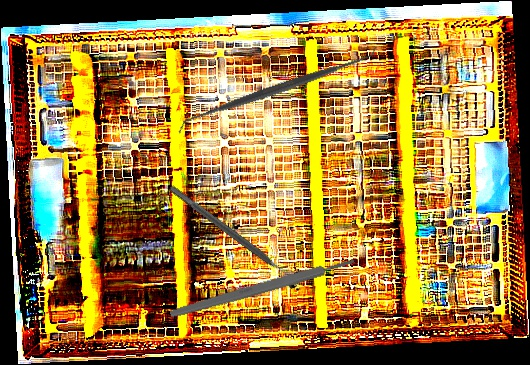Fixation Ring: (162, 177, 308, 292)
Scalpel Handle: (169, 255, 356, 321)
Spatula Surgical: (172, 43, 382, 136)
